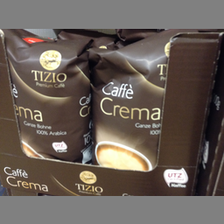coffee: (89, 30, 176, 170), (3, 30, 91, 164)
